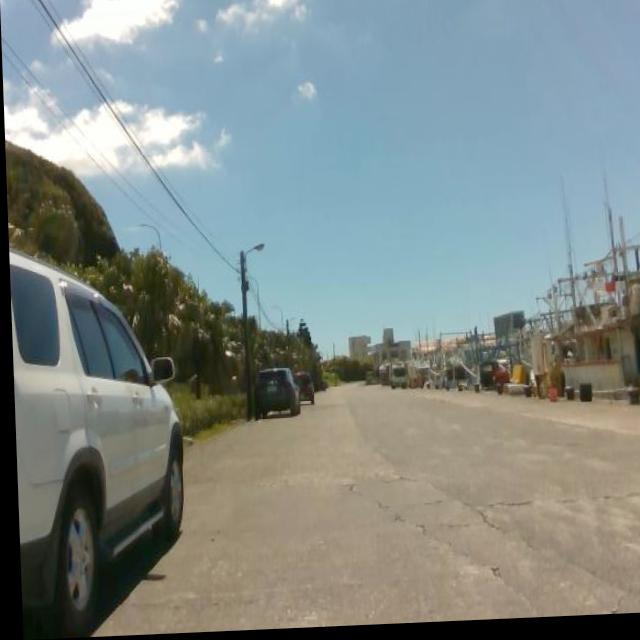pollute: (180, 437, 194, 449)
